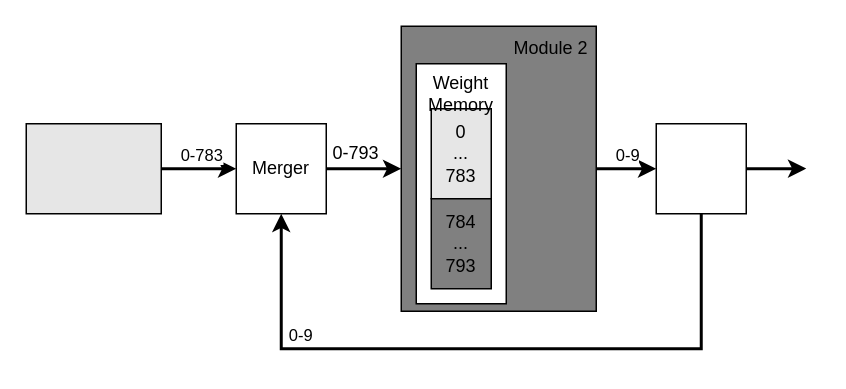
This 846x389 diagram has some shape labels left out. The centre of each missing label's shape, as x and y in pixels:
"Module 1" belongs at point 93,168.
"Splitter" belongs at point 700,168.
